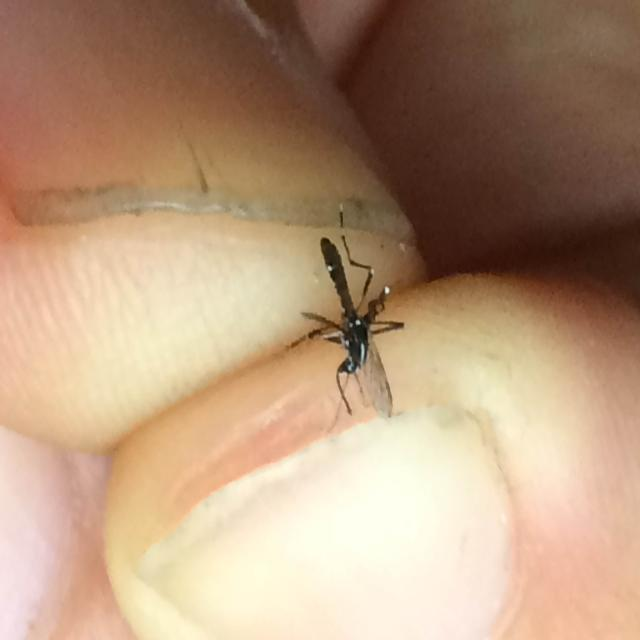albopictus: (275, 198, 409, 428)
